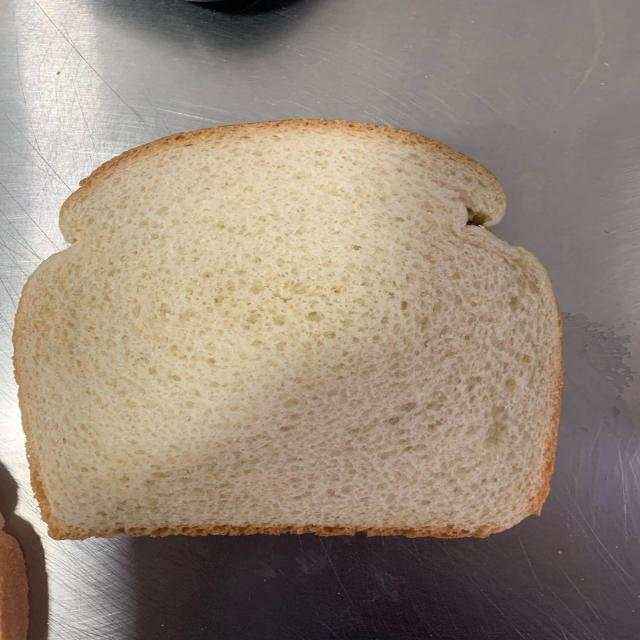pan: (10, 118, 561, 539)
